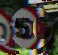Speed limit: (9, 5, 55, 53)
